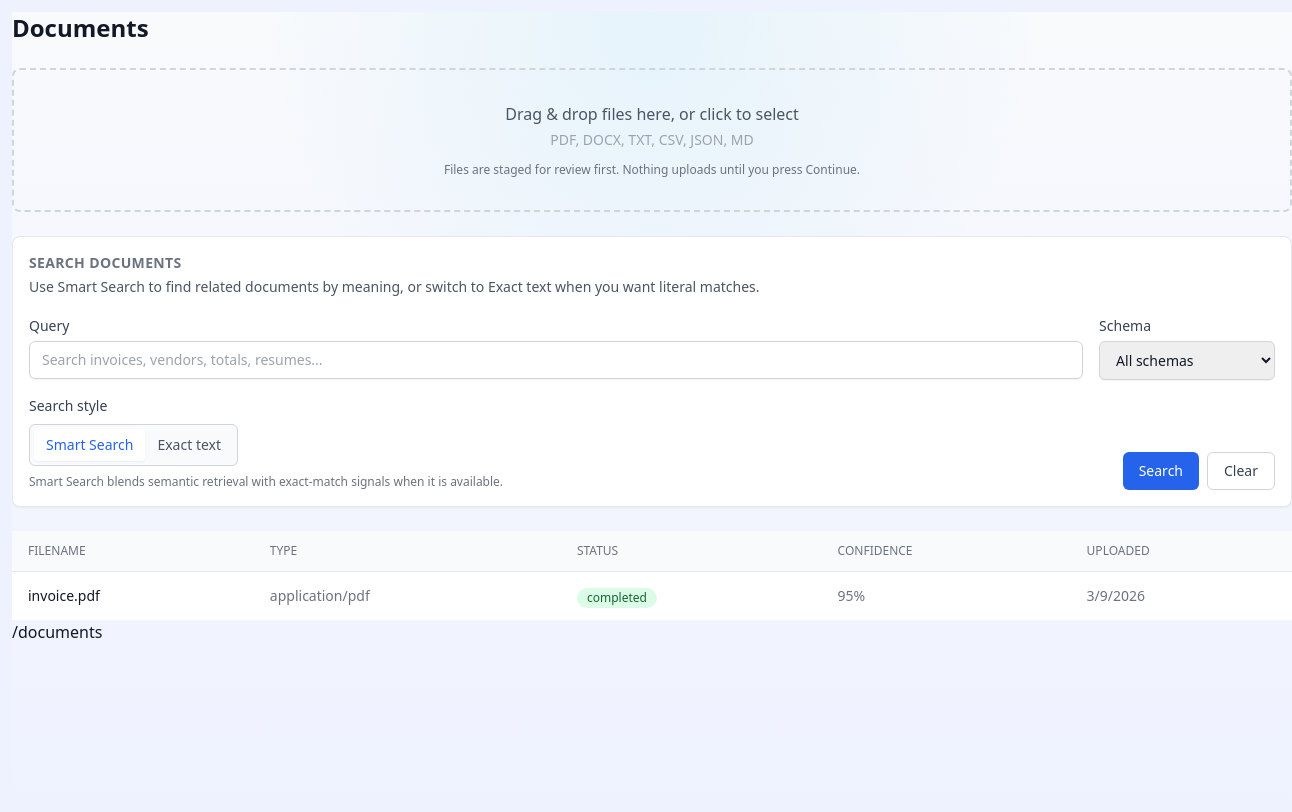
Test: Documents › shows a friendly fallback banner when Smart Search degrades to exact text
Check: the text "invoice.pdf" is shown, box x1=12 y1=572 x2=254 y2=620
Type "invoice" into the field labelled "Query" at (556, 360), box x1=29 y1=341 x2=1083 y2=379
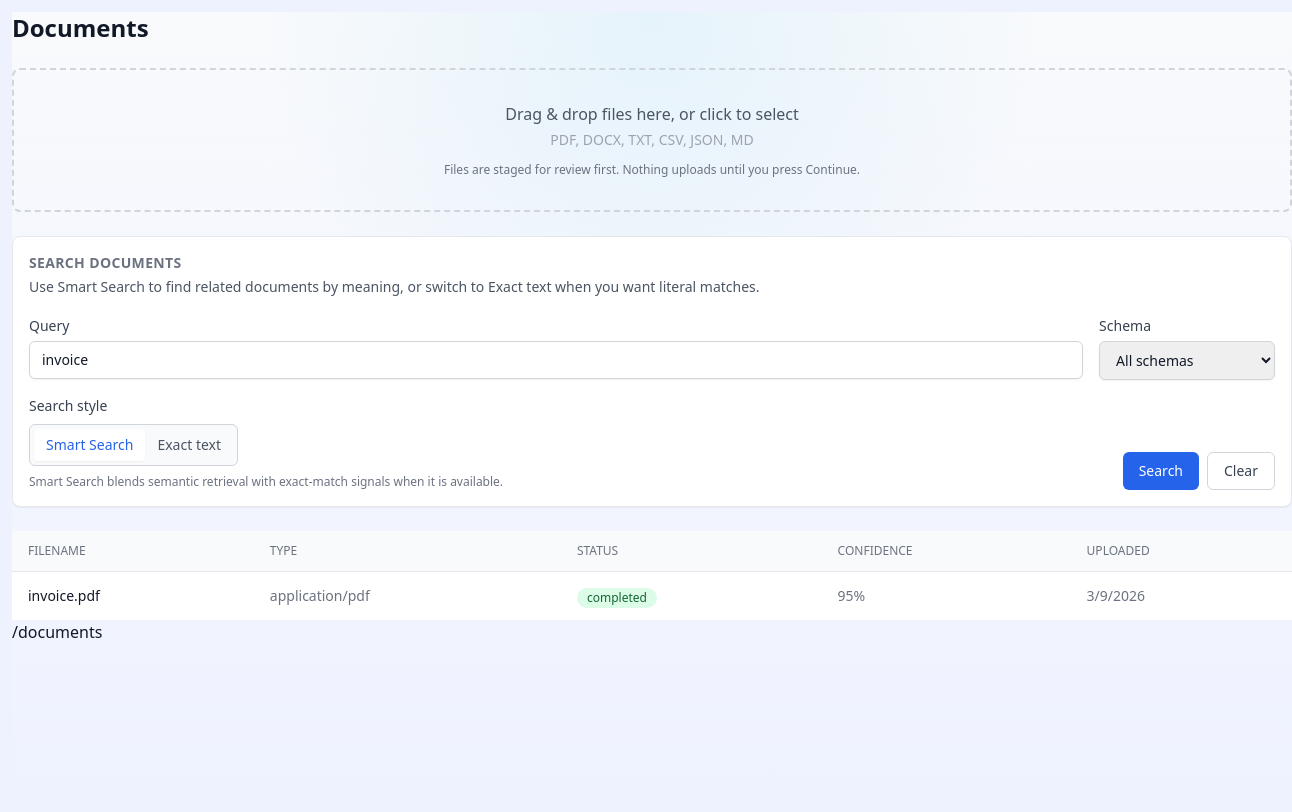
Click the button "Search" at (1161, 471), box x1=1123 y1=452 x2=1199 y2=490
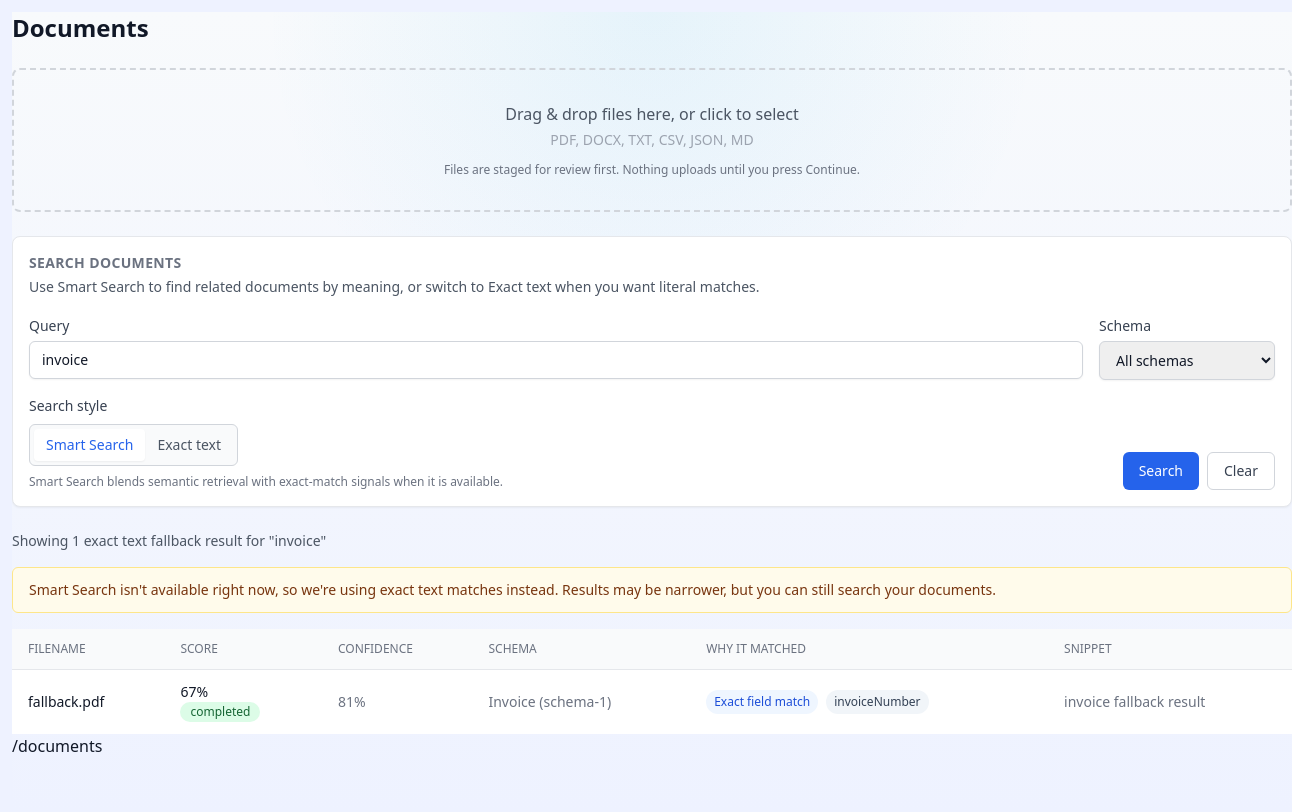
Check: the text "Smart Search isn't available right now, so we're using exact text matches instead. Results may be narrower, but you can " is shown, box x1=29 y1=580 x2=996 y2=599
Check: the text "Showing 1 exact text fallback result for \"invoice\"" is shown, box x1=12 y1=531 x2=326 y2=551
